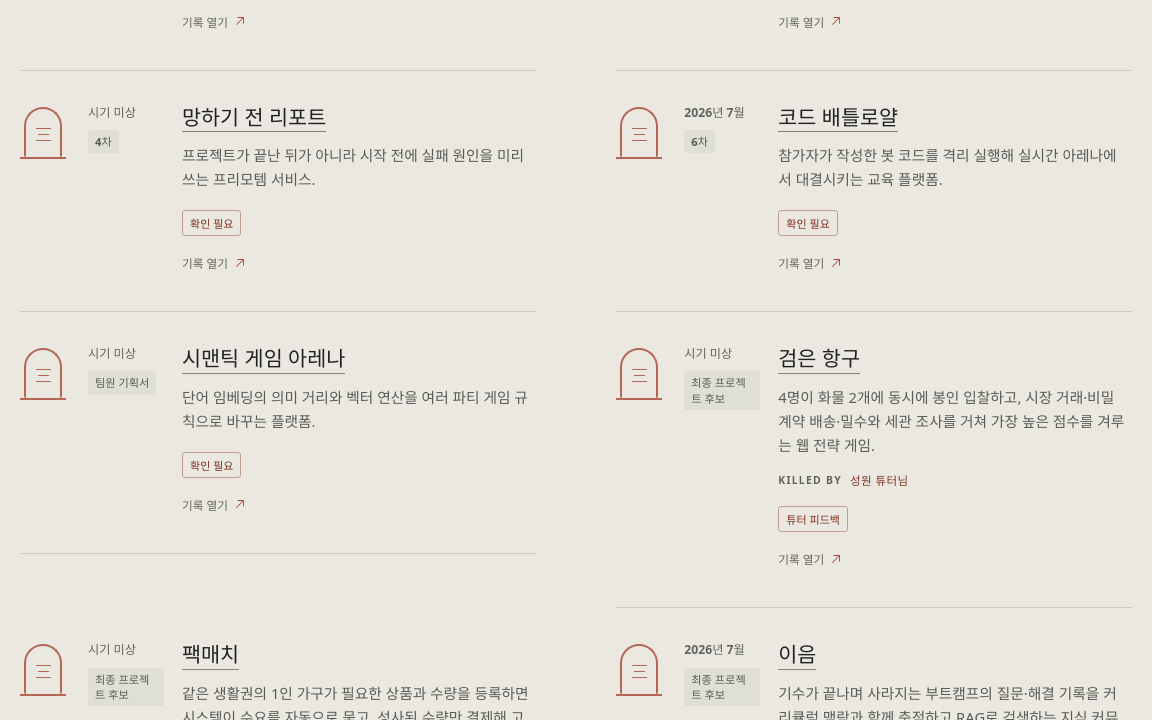
App › 상세 기록에서 승인된 판정자를 보여준다
(page scrolled)
Click the button named "검은 항구 기록 열기": point(819, 360) [778,346,860,374]
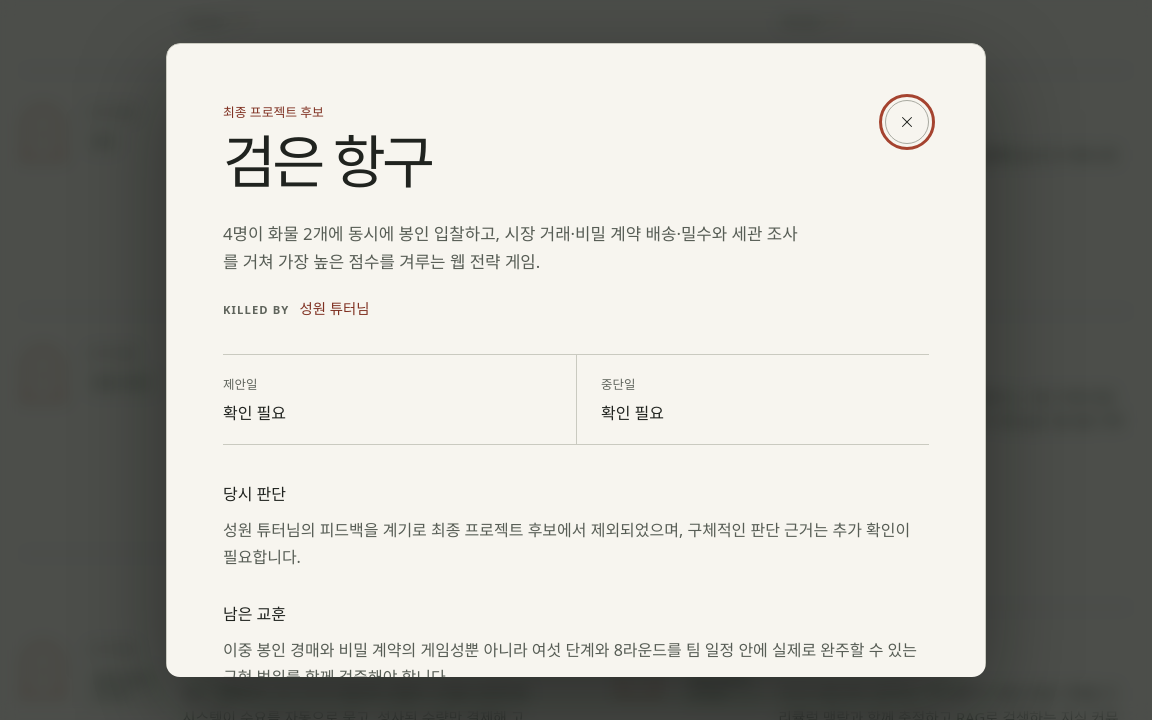
Expected: the text "Killed by" is shown, [223,302,290,317]
Expected: the text "성원 튜터님" is shown, [300,297,370,318]
